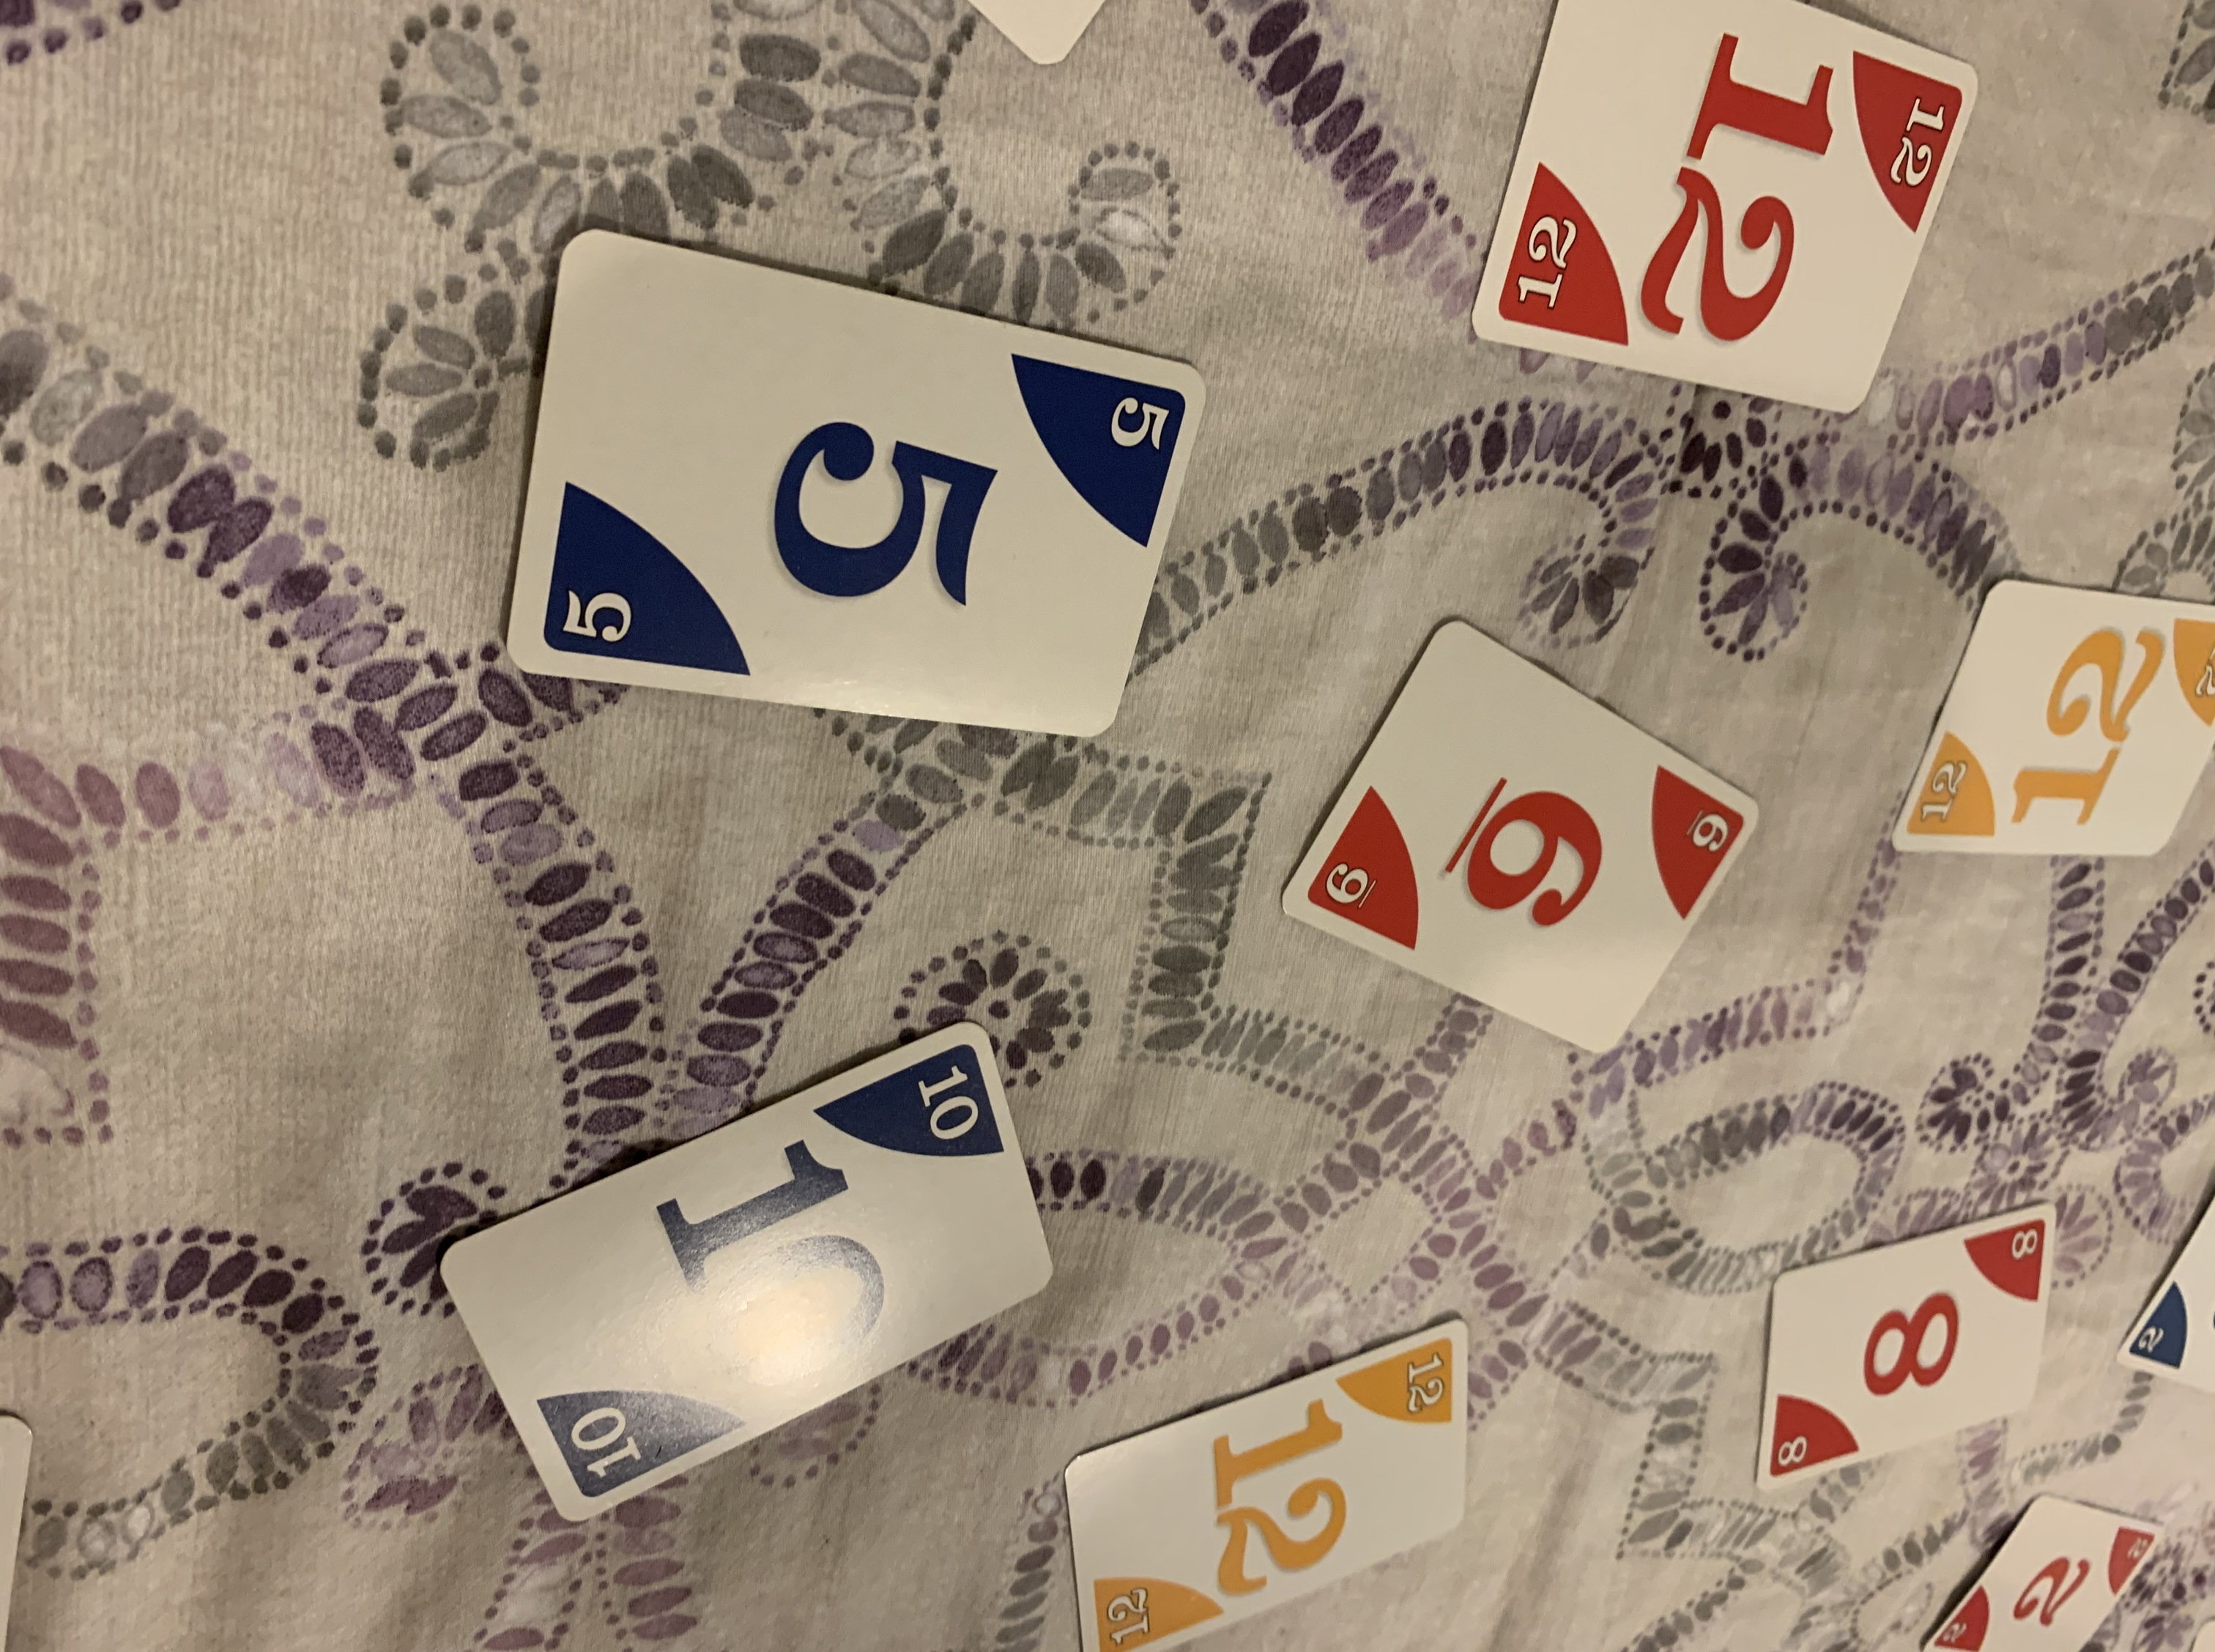eight: (1748, 1201, 2055, 1477)
five: (488, 226, 1213, 744)
six: (1283, 613, 1771, 1067)
ten: (427, 1019, 1061, 1525)
twelve: (1456, 0, 1986, 422), (1061, 1314, 1472, 1652), (1885, 578, 2215, 873)
